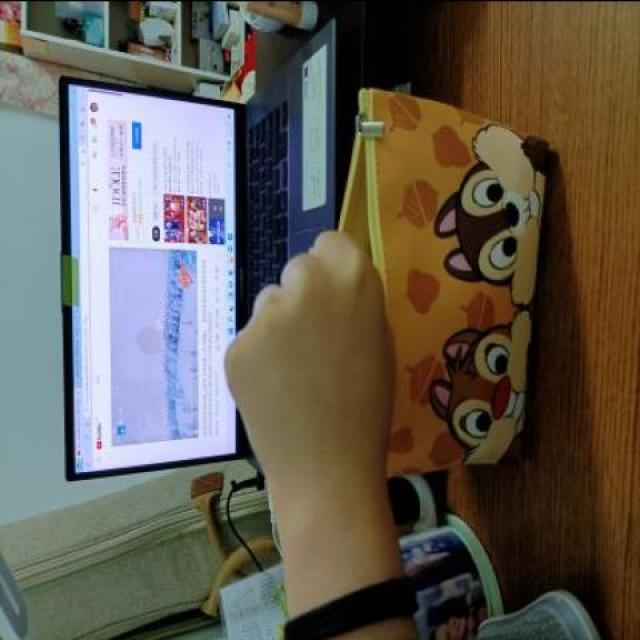Closed Hand: (223, 221, 402, 498)
